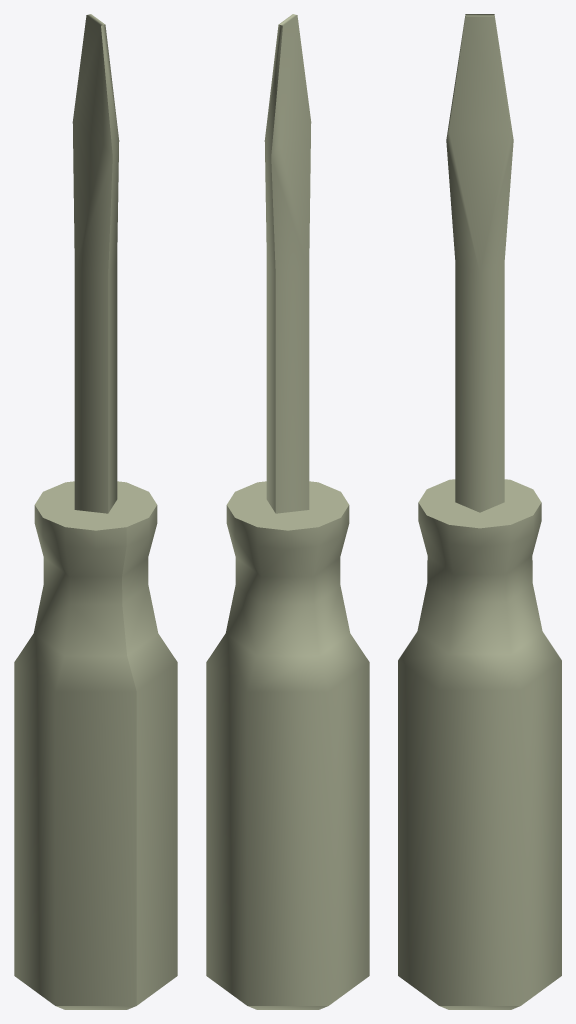
File: SM_ScrewdriverSet_02a.FBX
The picture shows the model from 3 angles, left to right: view 1: azimuth 30°, elevation 25°; view 2: azimuth 150°, elevation 25°; view 3: azimuth 270°, elevation 25°; orthographic projection.
Visible parts, largest first — view 1: SM_ScrewdriverSet_02a_LOD0; view 2: SM_ScrewdriverSet_02a_LOD0; view 3: SM_ScrewdriverSet_02a_LOD0.
Boxes of the visible parts, x1,y1,x2,y2 form: SM_ScrewdriverSet_02a_LOD0: [14, 14, 177, 1009]; SM_ScrewdriverSet_02a_LOD0: [206, 14, 369, 1009]; SM_ScrewdriverSet_02a_LOD0: [398, 14, 561, 1009].
Size of what is drawn, in the model's own units: 2.71 by 20.55 by 3.13.
